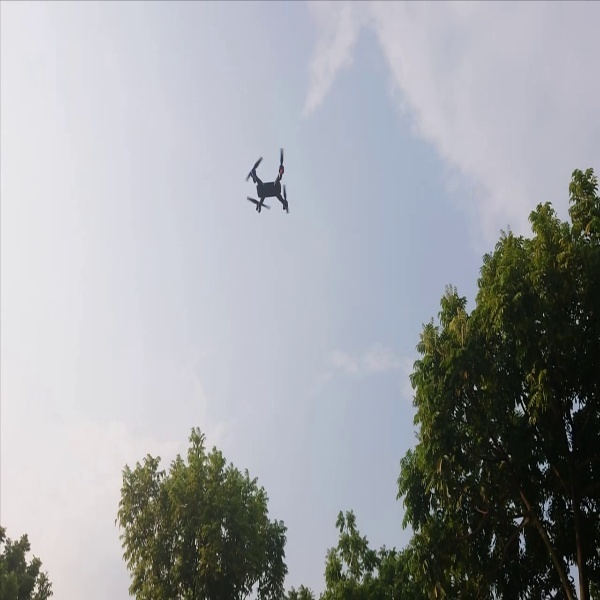drone: (246, 145, 296, 217)
